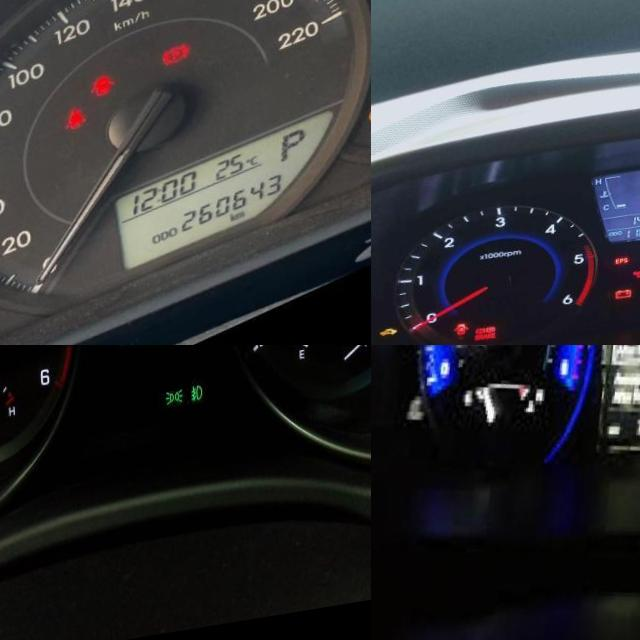Electronic Power Steering: (363, 118, 371, 143)
FrontFogLight: (187, 394, 201, 414)
Seat Belt: (64, 115, 85, 140)
SideLamp: (163, 398, 181, 415)
